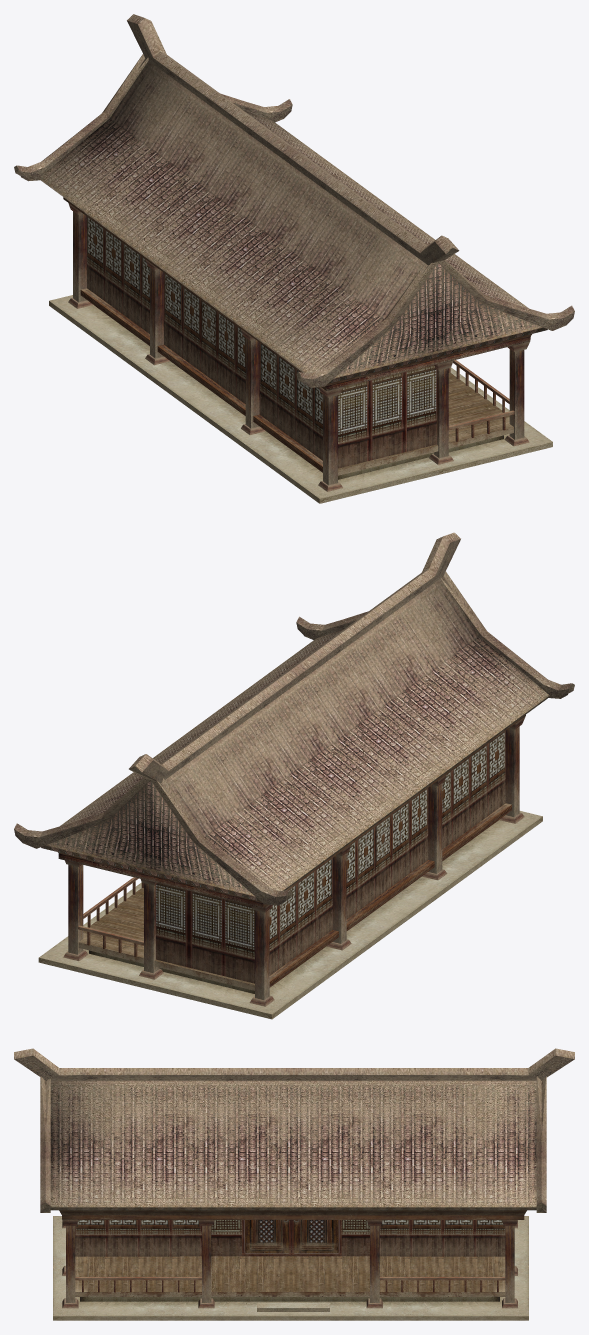
The model's file is desert-033-guesthouse-02.fbx.
The picture shows the model from 3 angles, top to bottom: view 1: azimuth 30°, elevation 25°; view 2: azimuth 150°, elevation 25°; view 3: azimuth 270°, elevation 25°; orthographic projection. The views are drawn at different scales.
Parts seen in each view (by area): view 1: desert-033-guesthouse-01, desert-033-guesthouse-02; view 2: desert-033-guesthouse-01, desert-033-guesthouse-02; view 3: desert-033-guesthouse-01, desert-033-guesthouse-02.
Boxes of the visible parts, x1,y1,x2,y2 form: desert-033-guesthouse-01: (14, 14, 574, 491); desert-033-guesthouse-02: (49, 211, 552, 503); desert-033-guesthouse-01: (14, 532, 574, 1006); desert-033-guesthouse-02: (38, 726, 542, 1019); desert-033-guesthouse-01: (14, 1048, 574, 1311); desert-033-guesthouse-02: (53, 1210, 528, 1320).
Size of the model in its own units: 13.56 by 11.85 by 27.45.
